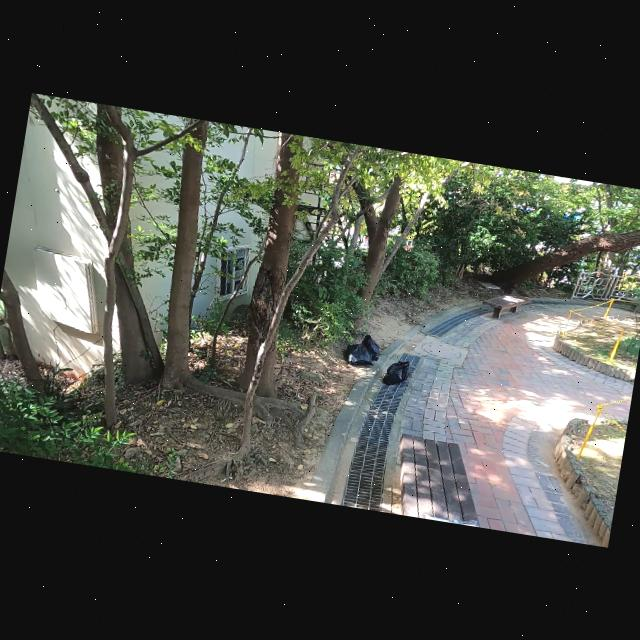trash: (382, 353, 412, 388), (343, 339, 375, 368), (357, 332, 382, 362)
